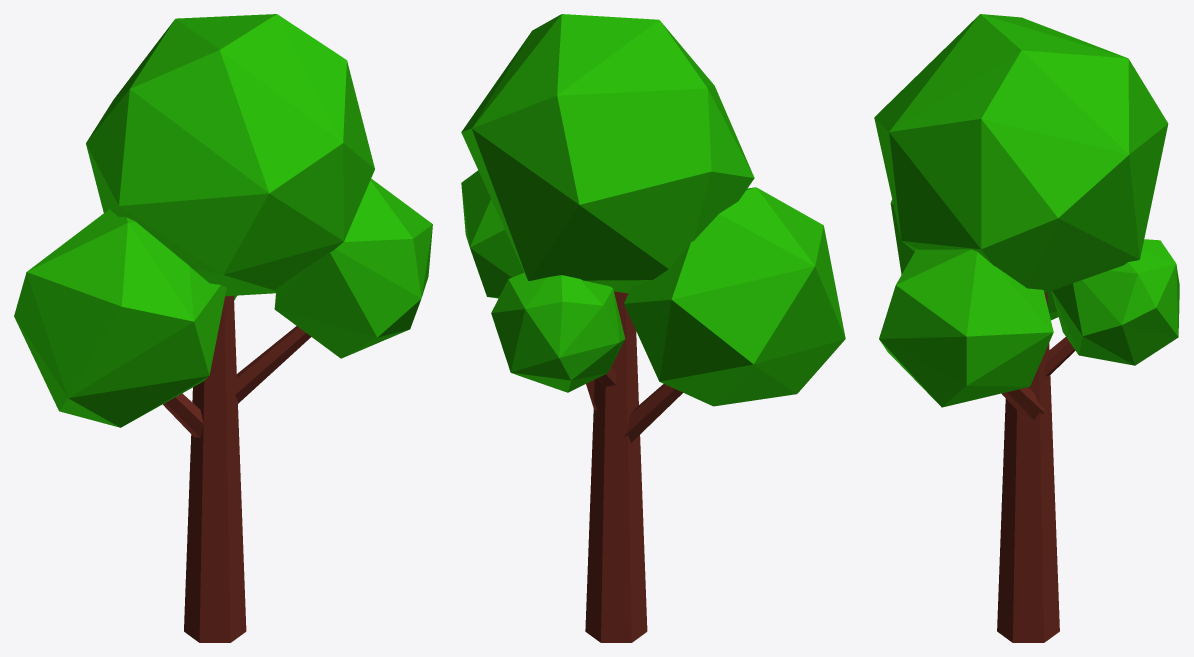
File: LargeTreeScaled.fbx
The picture shows the model from 3 angles, left to right: view 1: azimuth 30°, elevation 25°; view 2: azimuth 150°, elevation 25°; view 3: azimuth 270°, elevation 25°; orthographic projection.
Visible parts, largest first — view 1: Icosphere.002, Icosphere.001, Cylinder.001, Icosphere; view 2: Icosphere.002, Icosphere.001, Cylinder.001, Icosphere.003, Icosphere; view 3: Icosphere.002, Icosphere, Cylinder.001, Icosphere.003, Icosphere.001.
Boxes of the visible parts, <box> form: Icosphere.002: <box>86,14,374,296</box>; Icosphere.001: <box>14,209,226,427</box>; Cylinder.001: <box>163,295,310,642</box>; Icosphere: <box>274,178,432,358</box>; Icosphere.002: <box>461,14,754,293</box>; Icosphere.001: <box>624,187,845,406</box>; Cylinder.001: <box>585,291,682,642</box>; Icosphere.003: <box>491,272,625,392</box>; Icosphere: <box>461,170,524,298</box>; Icosphere.002: <box>874,14,1168,292</box>; Icosphere: <box>879,249,1053,407</box>; Cylinder.001: <box>997,292,1075,642</box>; Icosphere.003: <box>1051,239,1179,365</box>; Icosphere.001: <box>890,199,1058,320</box>.
Bounding box in the file's own units: 953 × 1446 × 657.
